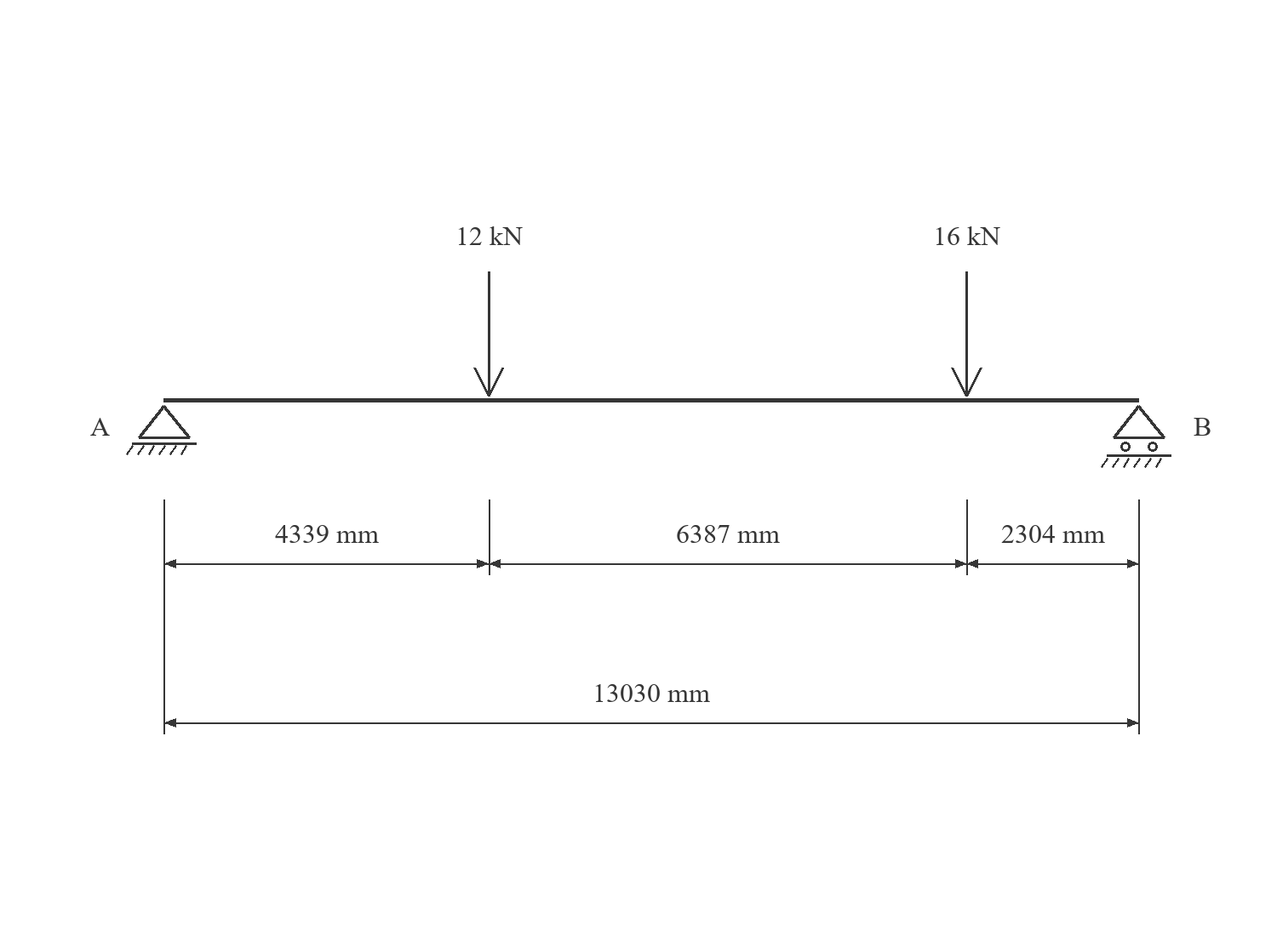pin_support: (126, 405, 197, 455)
point_load: (473, 271, 504, 397), (951, 271, 982, 397)
roller_support: (1101, 405, 1171, 468)
